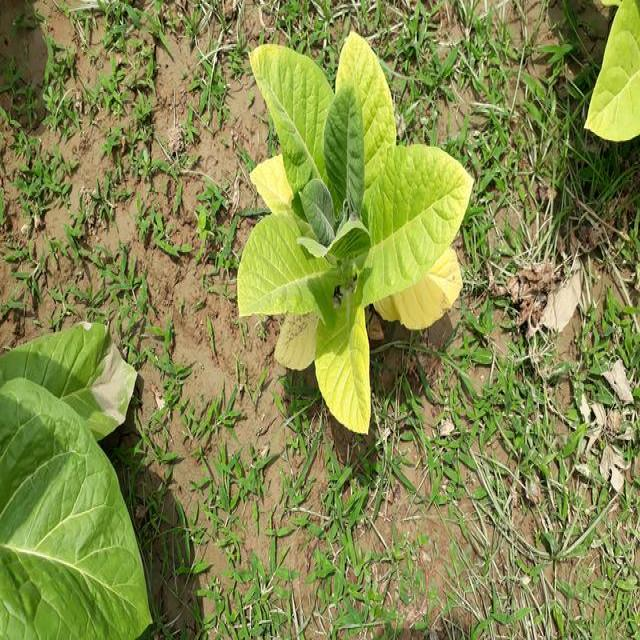crop: (246, 24, 469, 421), (0, 332, 155, 640), (571, 0, 639, 146)
